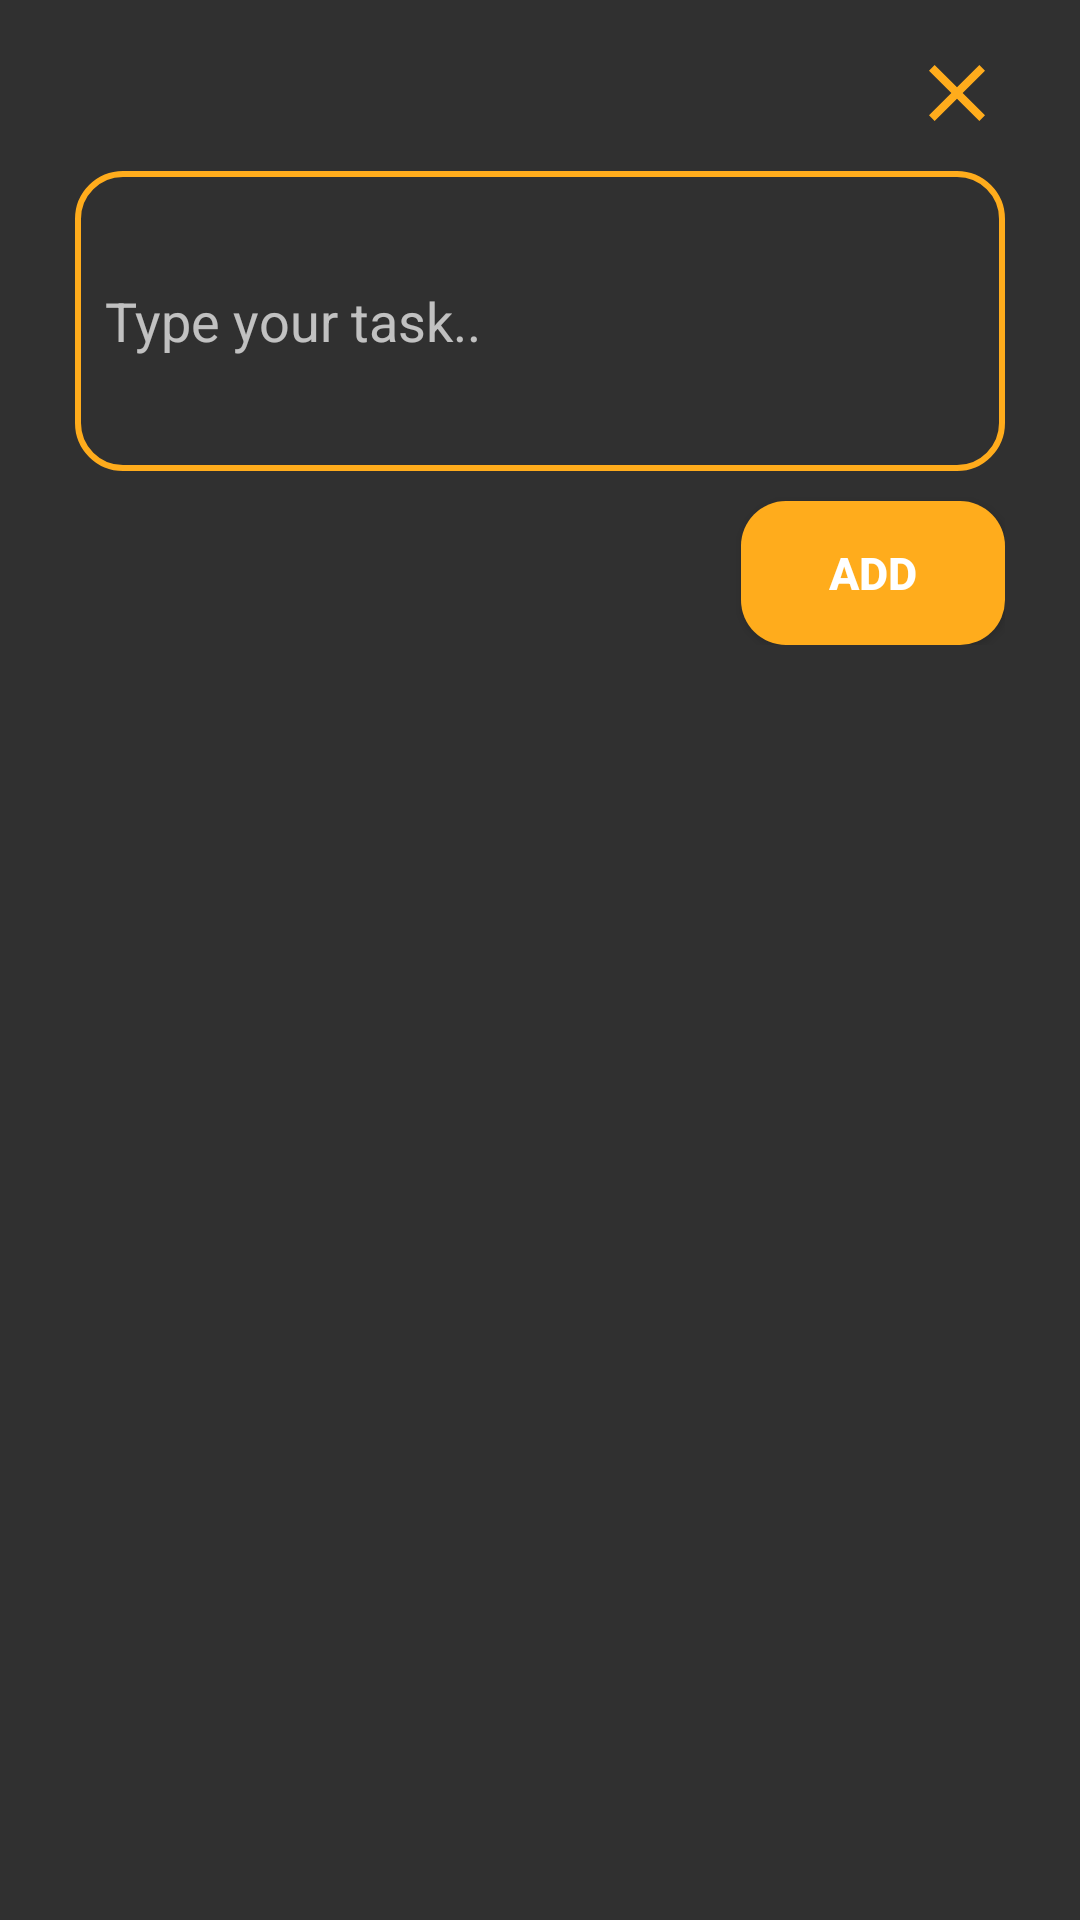

Screen size 1080×1920. Icon name, then its center in pixels as [x,y]:
close: [957,93]
